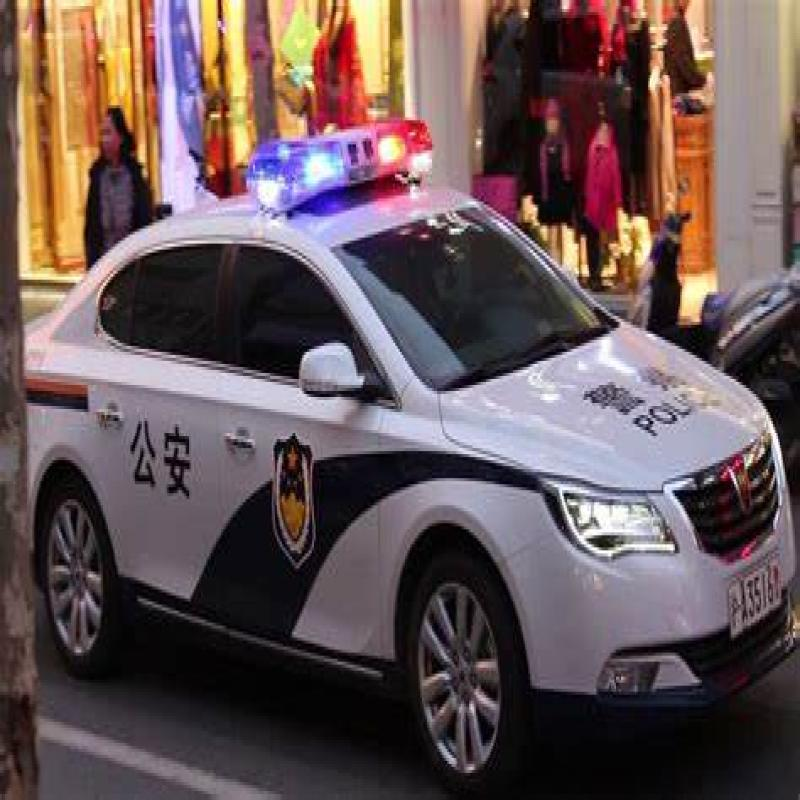AmbulanceSiren: (242, 96, 446, 212)
